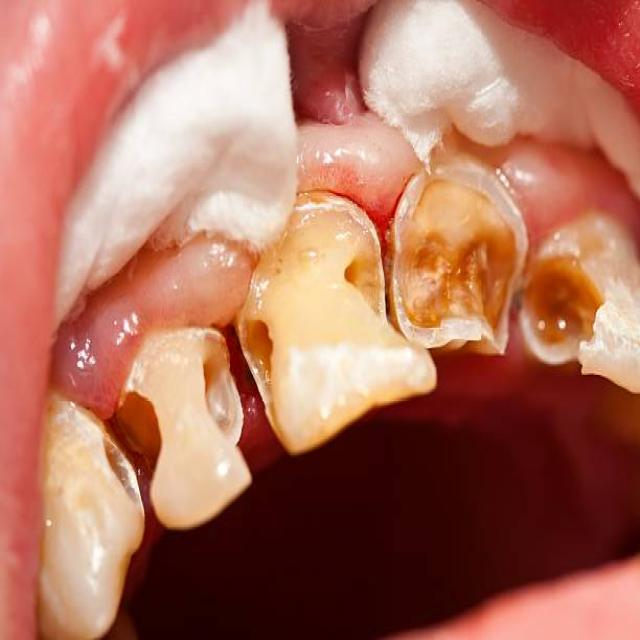calculus: (300, 189, 437, 390), (396, 162, 520, 364), (532, 187, 640, 394), (229, 281, 292, 438), (174, 324, 245, 457), (119, 376, 175, 495), (97, 424, 143, 533)
